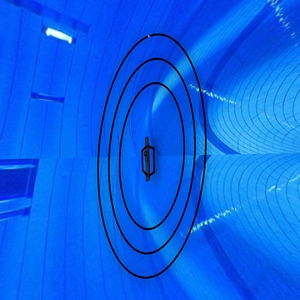circle: (96, 32, 208, 278)
submarine: (137, 133, 160, 183)
